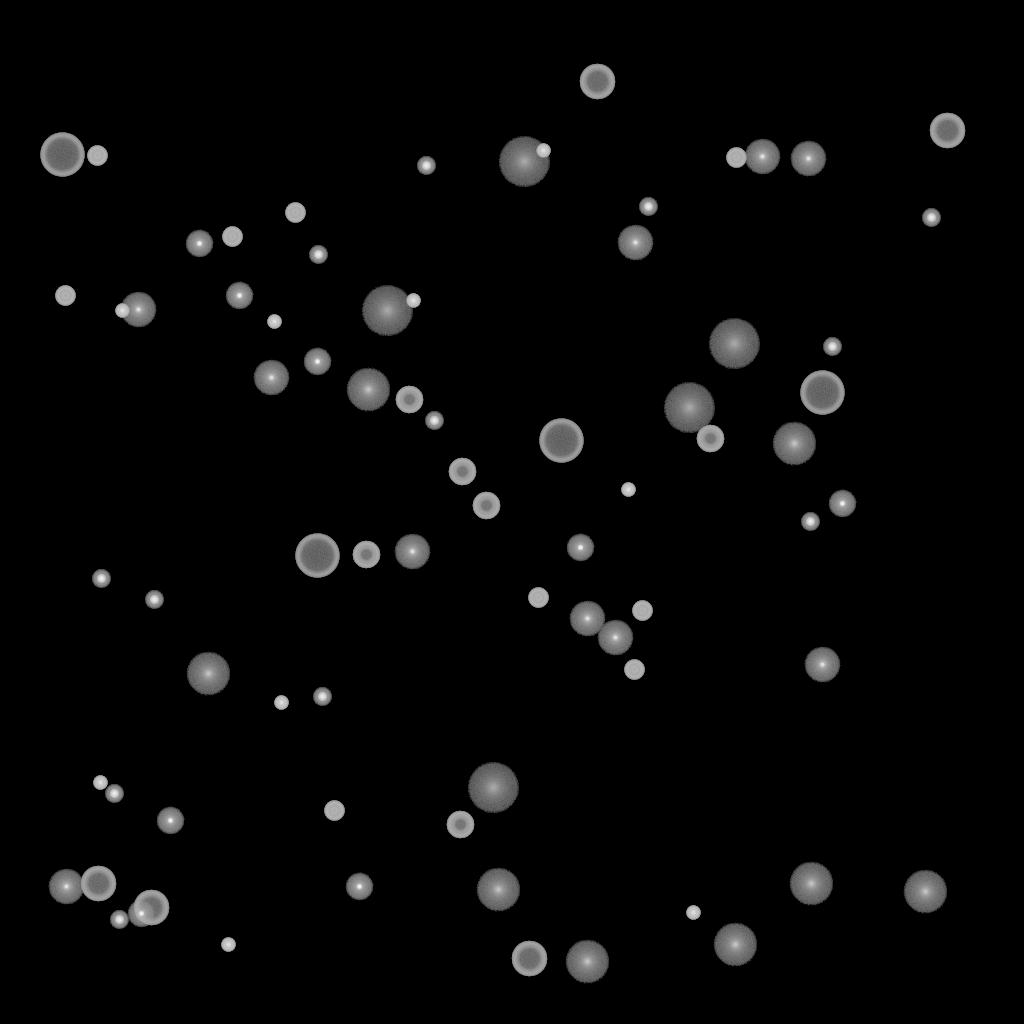depth:-10: (303, 348, 331, 376), (185, 230, 213, 258), (225, 282, 253, 310), (828, 490, 856, 518), (345, 873, 373, 901), (566, 534, 594, 562), (156, 807, 184, 835), (127, 900, 155, 928)
depth:-20: (313, 688, 331, 706), (417, 157, 435, 175), (922, 209, 940, 227), (823, 338, 841, 356), (92, 570, 110, 588), (145, 591, 163, 609), (110, 911, 128, 929), (801, 513, 819, 531), (105, 785, 123, 803), (425, 412, 443, 430), (639, 198, 657, 216), (309, 246, 327, 264)
depth:-30: (267, 315, 281, 329), (686, 906, 700, 920), (536, 144, 550, 158), (406, 294, 420, 308), (621, 483, 635, 497), (115, 304, 129, 318), (93, 776, 107, 790), (221, 938, 235, 952), (274, 696, 288, 710)
depth:-40: (632, 601, 652, 621), (222, 227, 242, 247), (87, 146, 107, 166), (528, 588, 548, 608), (285, 203, 305, 223), (324, 801, 344, 821), (726, 148, 746, 168), (624, 660, 644, 680), (55, 286, 75, 306)
depth:-50: (395, 386, 423, 414), (472, 492, 500, 520), (448, 458, 476, 486), (696, 425, 724, 453), (352, 541, 380, 569), (446, 811, 474, 839)
depth:-60: (579, 64, 615, 100), (511, 941, 547, 977), (929, 113, 965, 149), (133, 890, 169, 926), (80, 866, 116, 902)
depth:-70: (539, 419, 583, 463), (295, 534, 339, 578), (800, 371, 844, 415), (40, 133, 84, 177)
depth:0: (597, 620, 633, 656), (569, 601, 605, 637), (394, 534, 430, 570), (120, 292, 156, 328), (804, 647, 840, 683), (790, 141, 826, 177), (253, 360, 289, 396), (617, 225, 653, 261), (744, 139, 780, 175), (48, 869, 84, 905)
depth:10: (713, 923, 757, 967), (903, 870, 947, 914), (772, 422, 816, 466), (789, 862, 833, 906), (565, 940, 609, 984), (346, 368, 390, 412), (186, 652, 230, 696), (476, 868, 520, 912)
depth:20: (708, 319, 760, 369), (498, 137, 550, 187), (663, 383, 715, 433), (467, 763, 519, 813), (361, 286, 413, 336)
